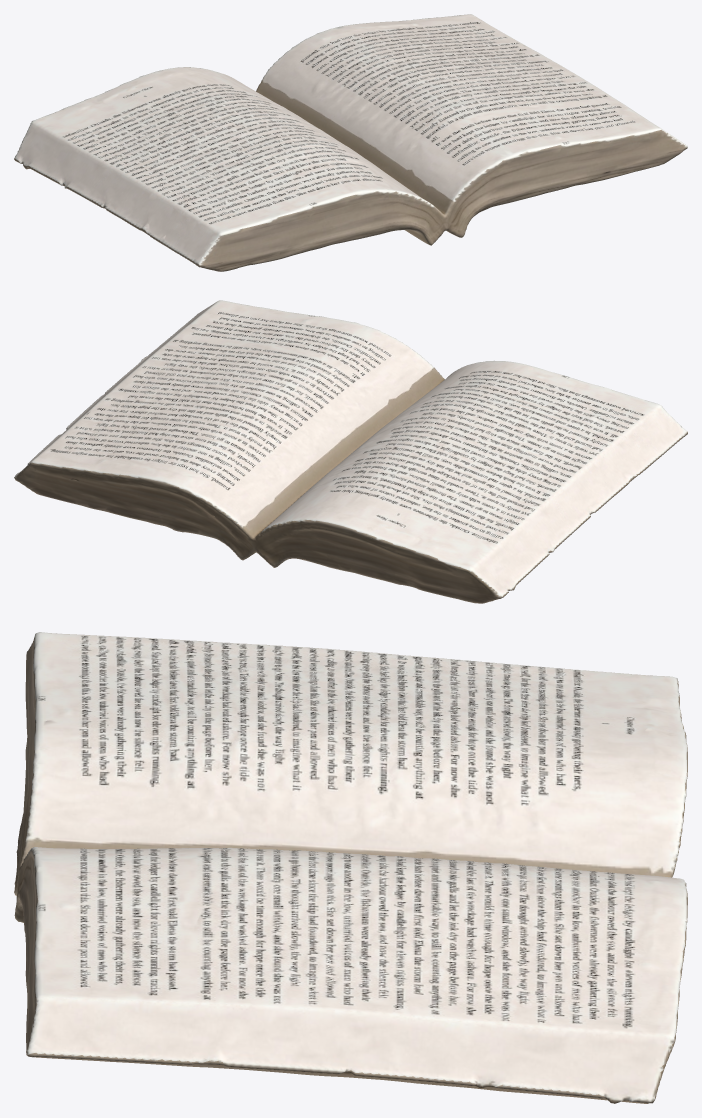
Rendered from open_book_table_ready.glb.
3 views of the same model, one above another, from view 1: azimuth 30°, elevation 25°; view 2: azimuth 150°, elevation 25°; view 3: azimuth 270°, elevation 25° (orthographic). The views are drawn at different scales.
Parts seen in each view (by area): view 1: open_book; view 2: open_book; view 3: open_book.
Part boxes in pixels (box(x1,y1,x2,y2)): open_book: box(14, 14, 687, 271); open_book: box(14, 300, 687, 603); open_book: box(14, 632, 687, 1103).
Bounding box in the file's own units: 0.28 × 0.0491 × 0.1985.
Materials: 1 (1 with a texture image).
